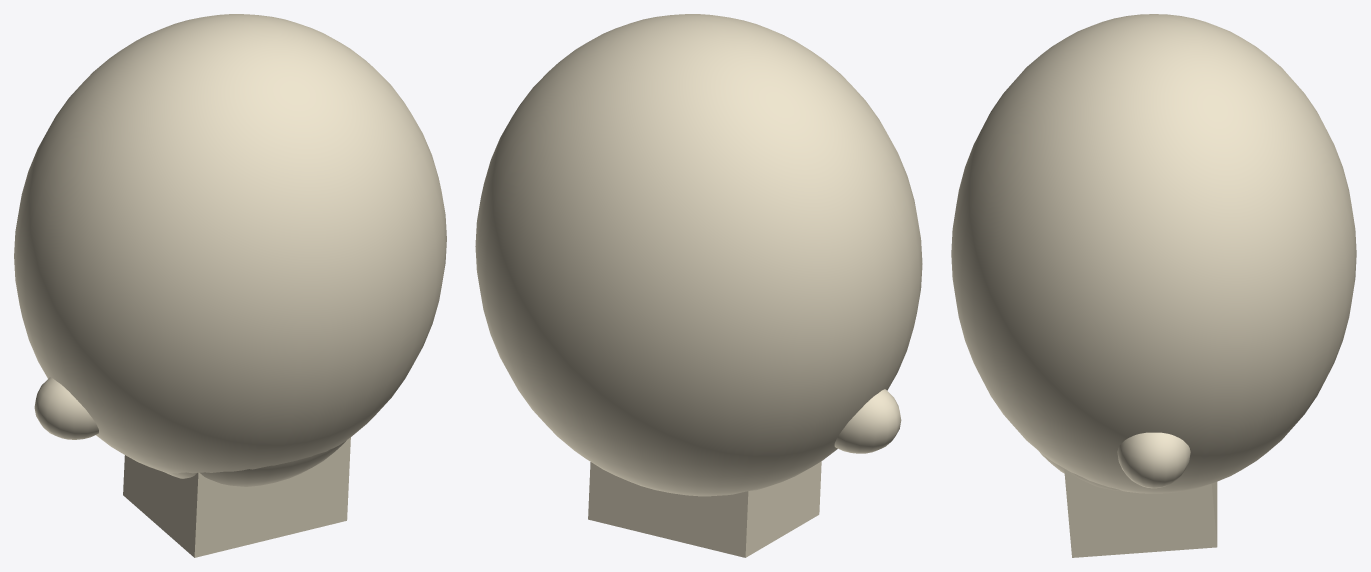
Rendered from skull.glb.
3 renders of one model, left to right at view 1: azimuth 30°, elevation 25°; view 2: azimuth 150°, elevation 25°; view 3: azimuth 270°, elevation 25°, orthographic. The views are drawn at different scales.
Parts seen in each view (by area): view 1: Skull_placeholder; view 2: Skull_placeholder; view 3: Skull_placeholder.
Boxes of the visible parts, x1,y1,x2,y2 form: Skull_placeholder: (14, 14, 446, 557); Skull_placeholder: (475, 14, 922, 557); Skull_placeholder: (951, 14, 1356, 557).
Bounding box in the file's own units: 0.68 × 0.8108 × 0.612.
